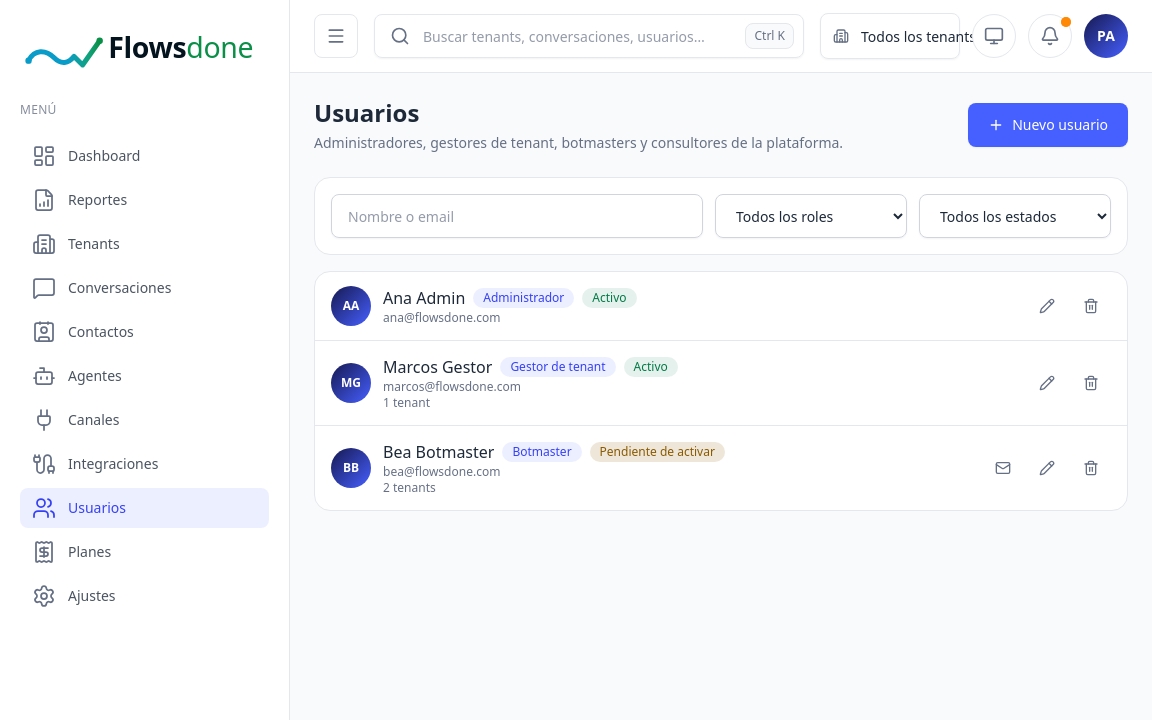
Test: Usuarios: buscador, filtros y tenant activo › busca por nombre o email sin importar mayúsculas ni acentos, y filtra por rol y estado
Expected: the list named "Usuarios" is shown, [315,272,1127,510]
Type "MARCOS@" into the search field named "Buscar usuario".
click(517, 216); type("MARCOS@")  # box [331,194,703,238]
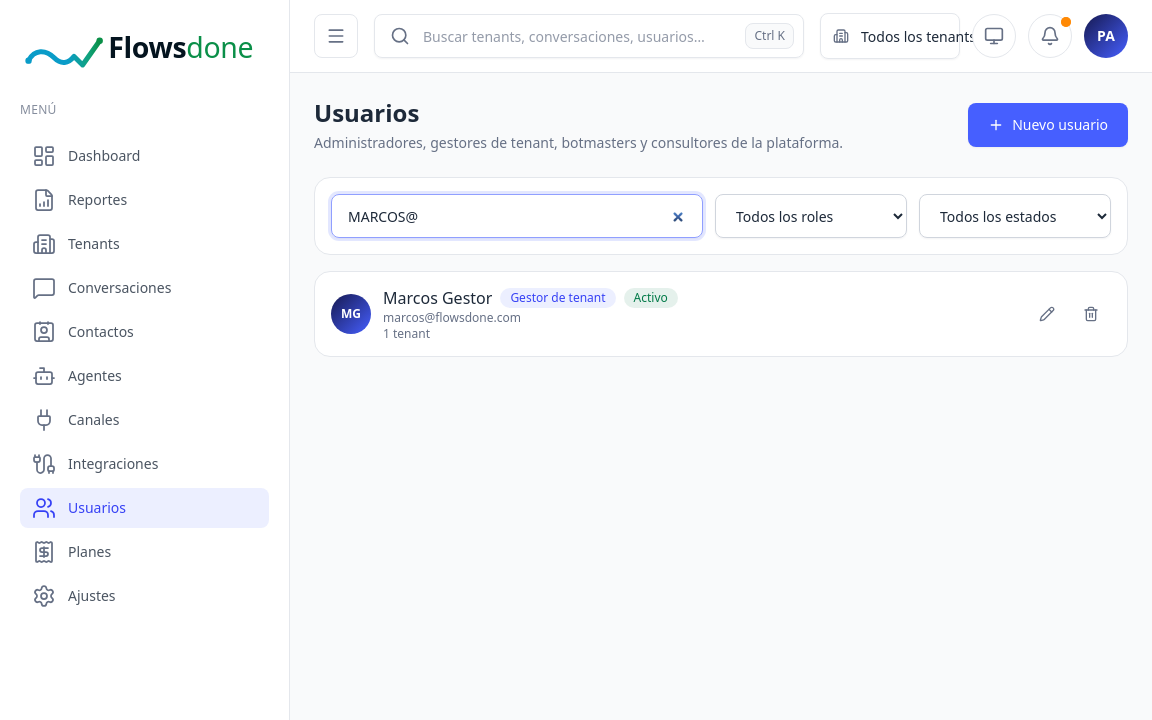
Clear the search field named "Buscar usuario" at x=517, y=216, box [331,194,703,238]
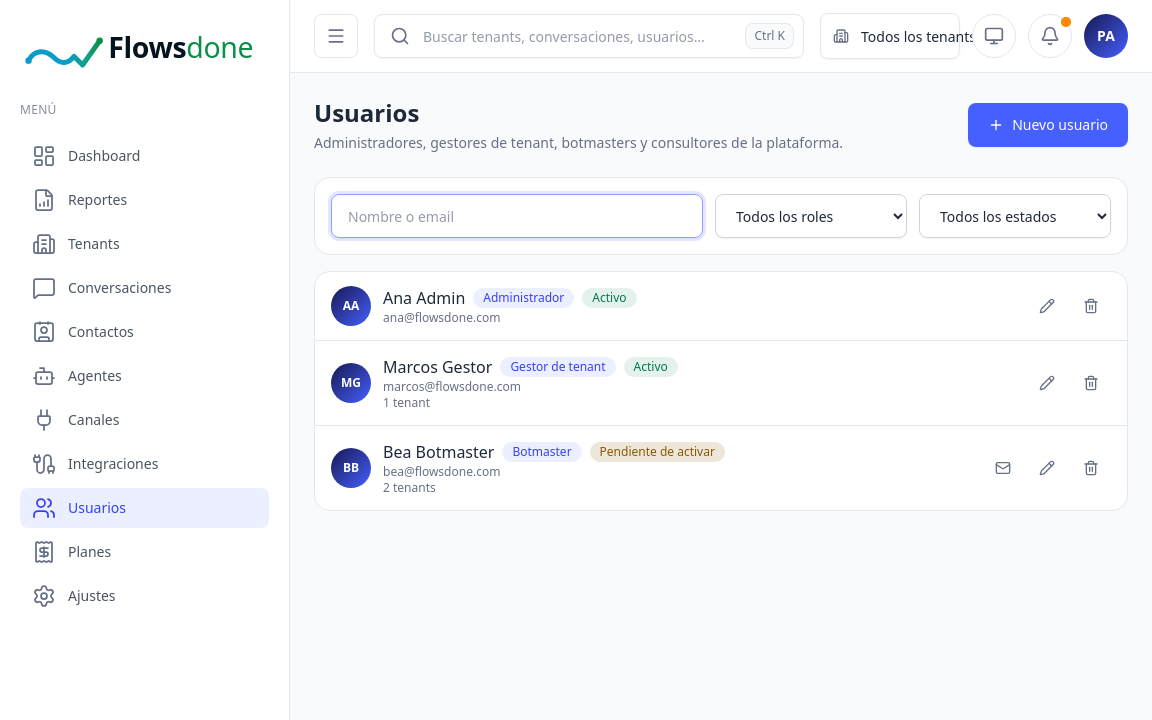
Select "Botmaster" in the dropdown named "Rol" at x=811, y=216, box [715,194,907,238]
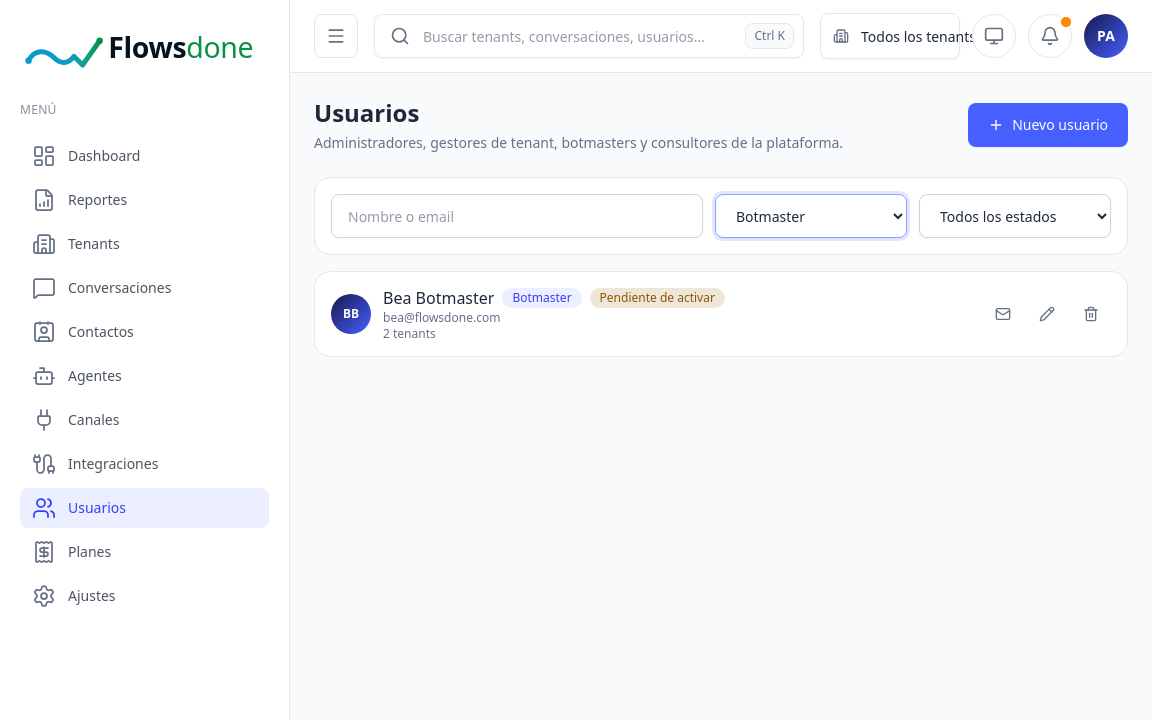
Select "Activo" in the dropdown named "Estado" at x=1015, y=216, box [919,194,1111,238]
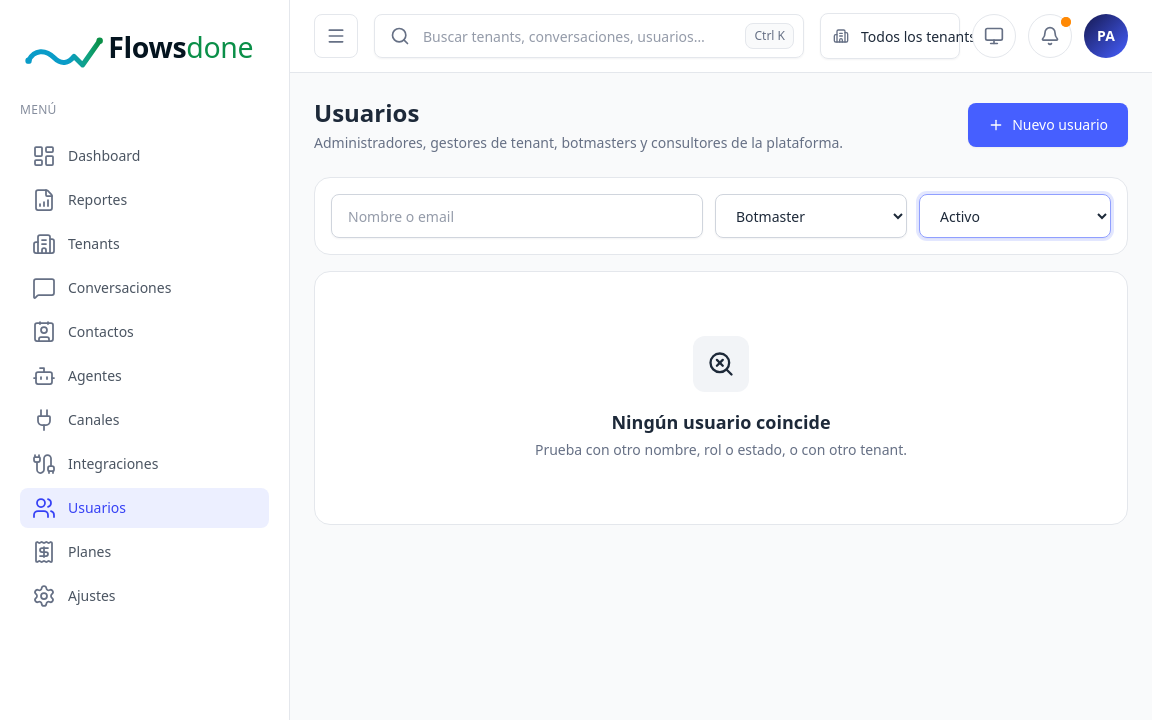
Expected: the heading "Ningún usuario coincide" is shown, [611,408,830,436]
